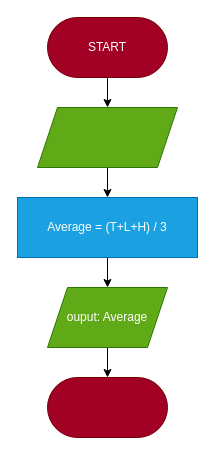
The diagram is 215 pixels wide and 455 high, and some of its shapes have lost their labels. The shapes that lost their labels are listed below. From the top down, each one's box as (x1, y1, x2, y2) in pixels, then its label:
(36, 106, 178, 168): input: T, L, H
(46, 376, 168, 438): STOP
